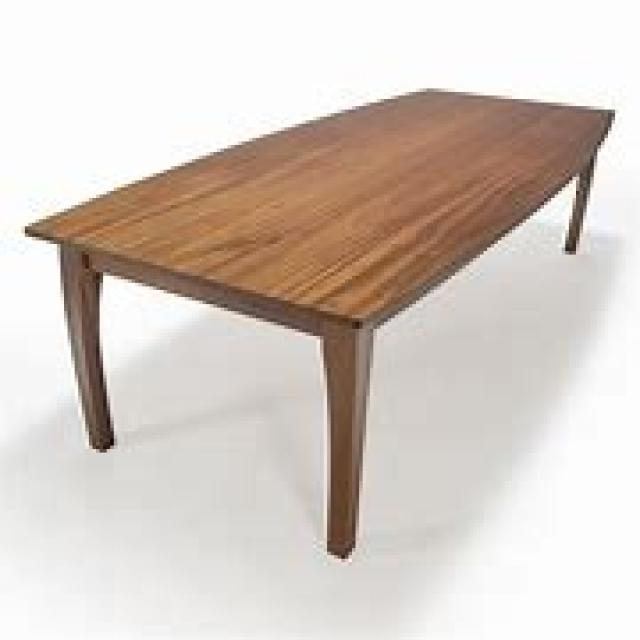table: (21, 81, 615, 559)
